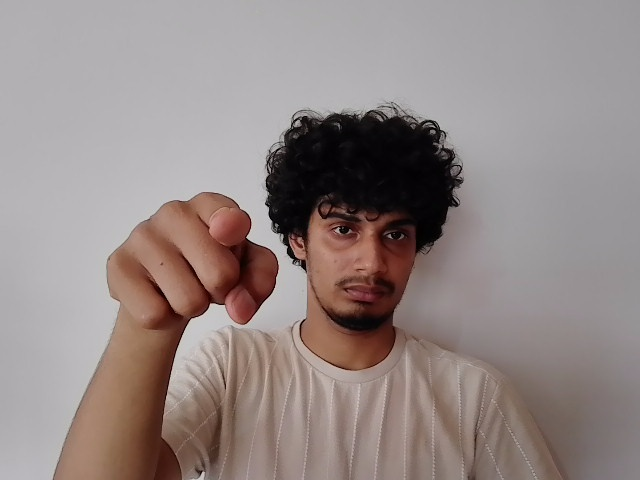you: (100, 183, 280, 339)
